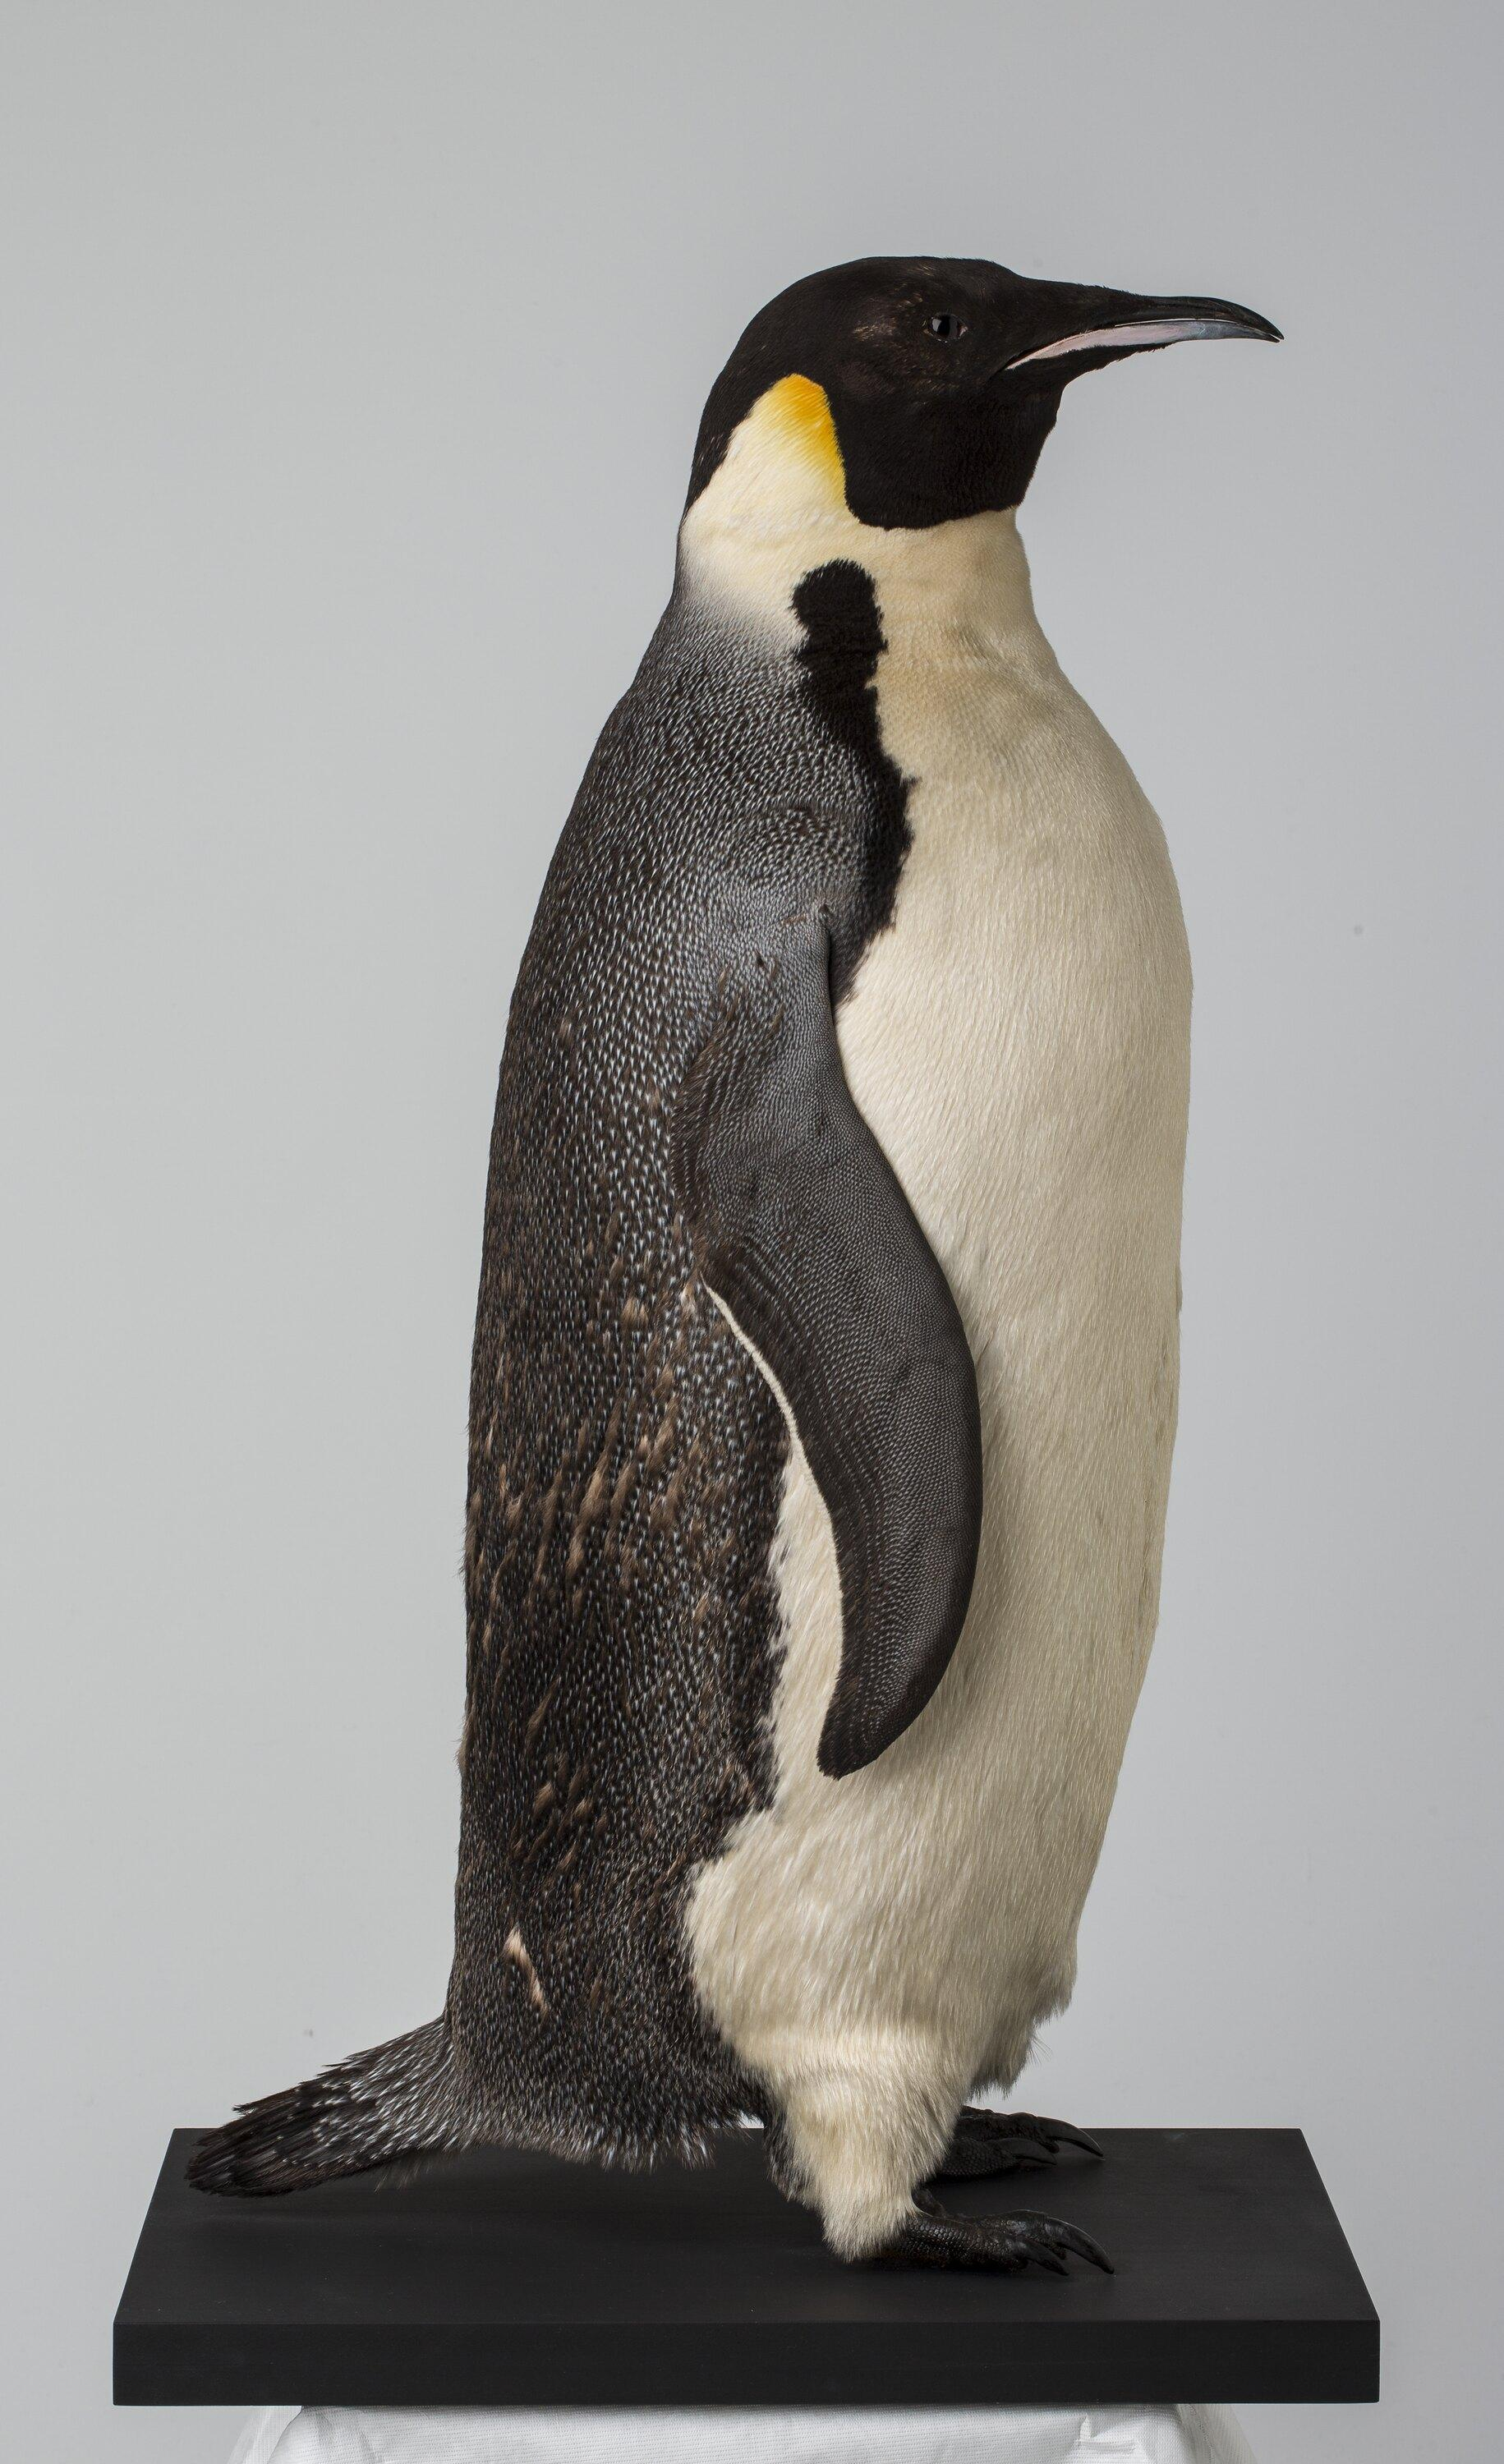emporer: (289, 164, 1381, 2443)
